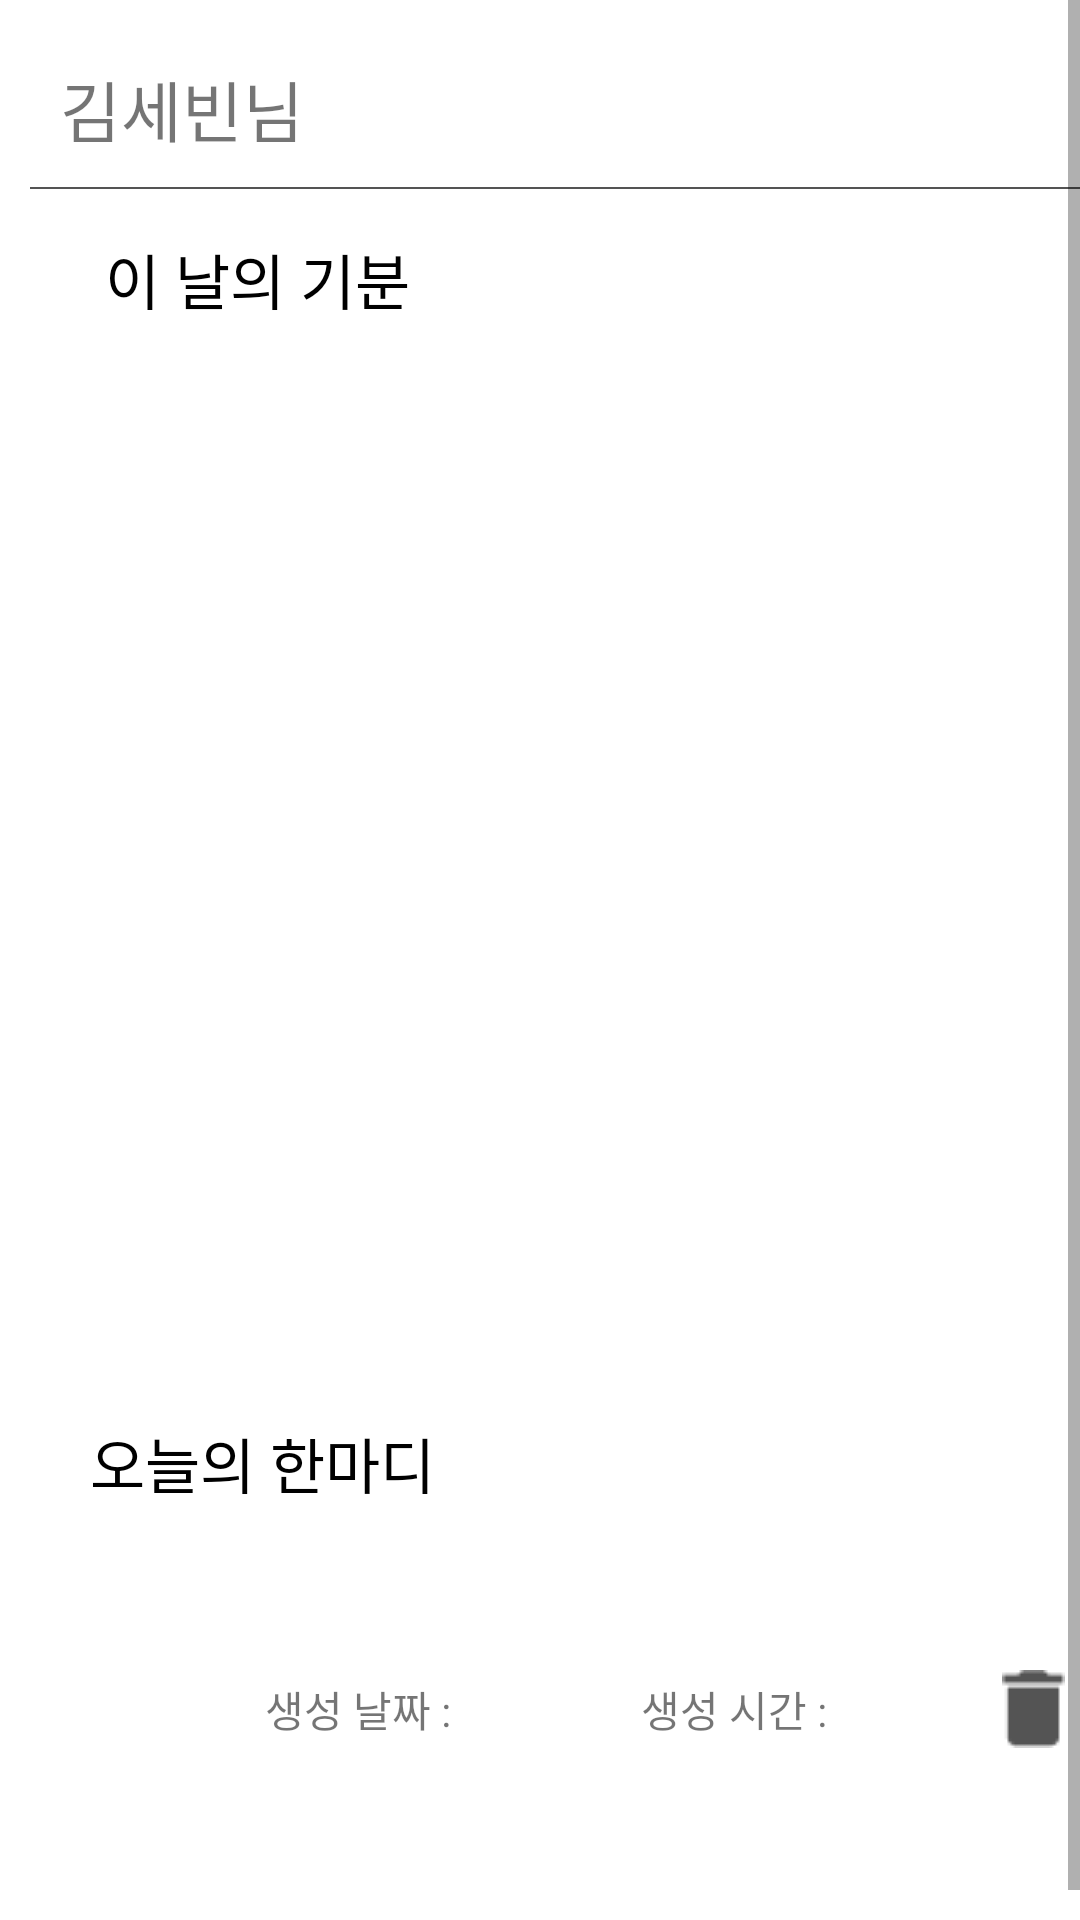

Screen size 1080×1920. Icon name, then its center in pixels as (x=x, y=y):
bin: (x=1033, y=1709)
